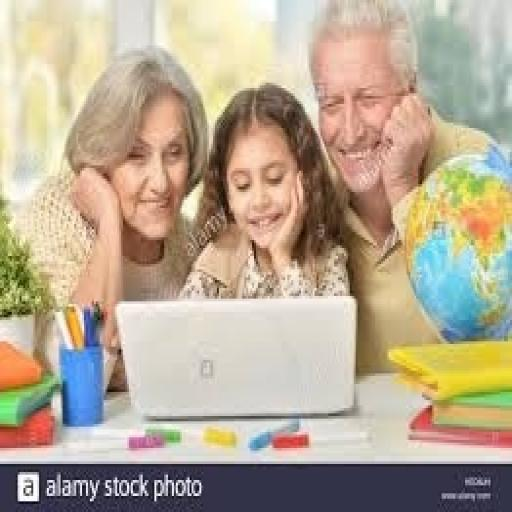using_laptop: (113, 294, 358, 422)
